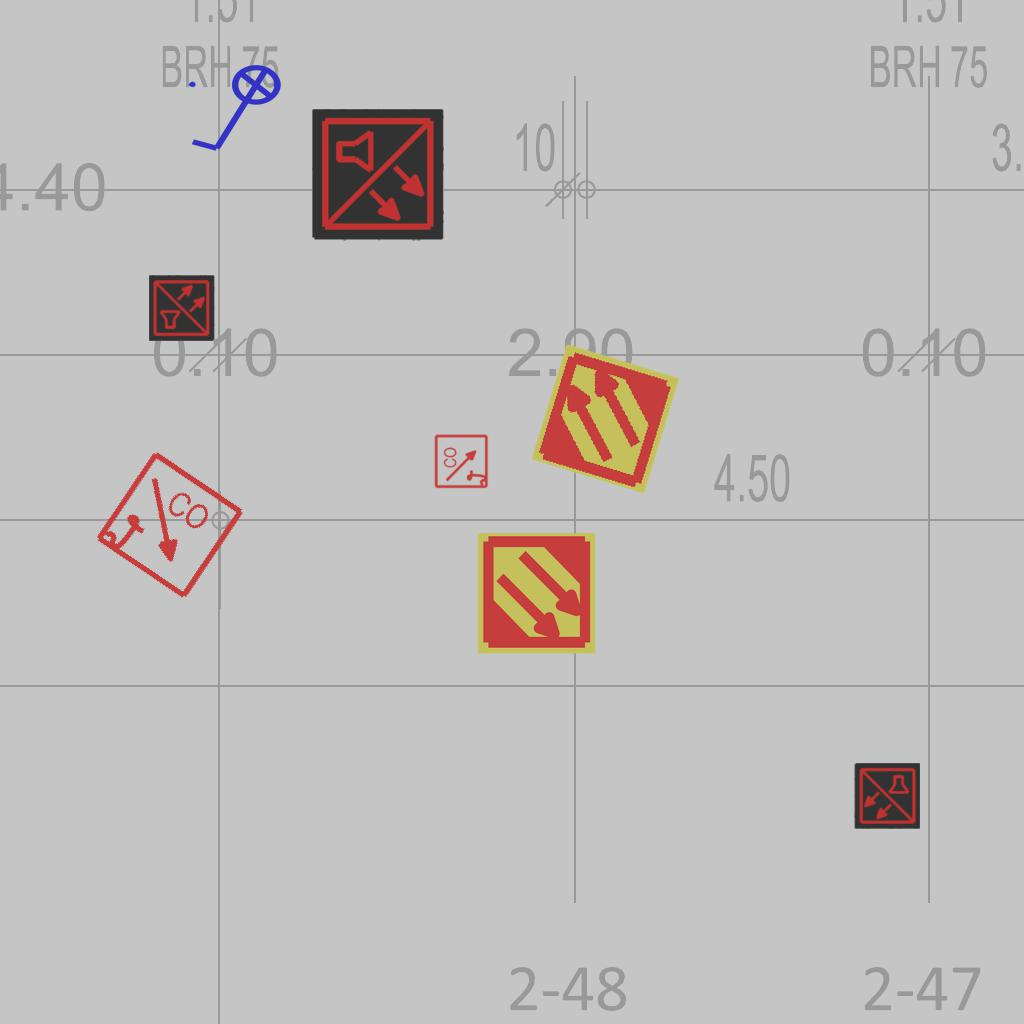ASR_Ansaugrauchmelder: (527, 340, 684, 497), (474, 531, 599, 656)
Ausschalter_beleuchtet: (183, 63, 295, 159), (142, 272, 216, 346)
OKW_Multisensormelder_(Kombination_optischer_Rauch-Kahlenmonoxid_Waerme-Melder): (312, 109, 444, 241), (854, 763, 920, 829), (149, 275, 215, 341)
ROA_Rauchmelder_optisch_mit_Signalgeber_(Sockelsirene): (91, 448, 248, 605), (434, 433, 490, 489)
